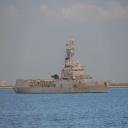Portanaves: (13, 36, 112, 94)
